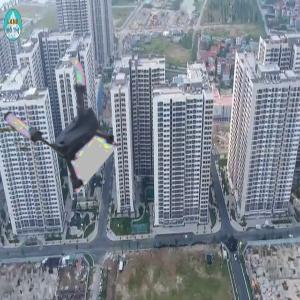drone: (14, 62, 127, 175)
